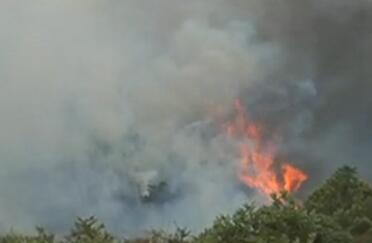fire: (222, 103, 299, 202)
yanwu: (0, 0, 371, 229)
